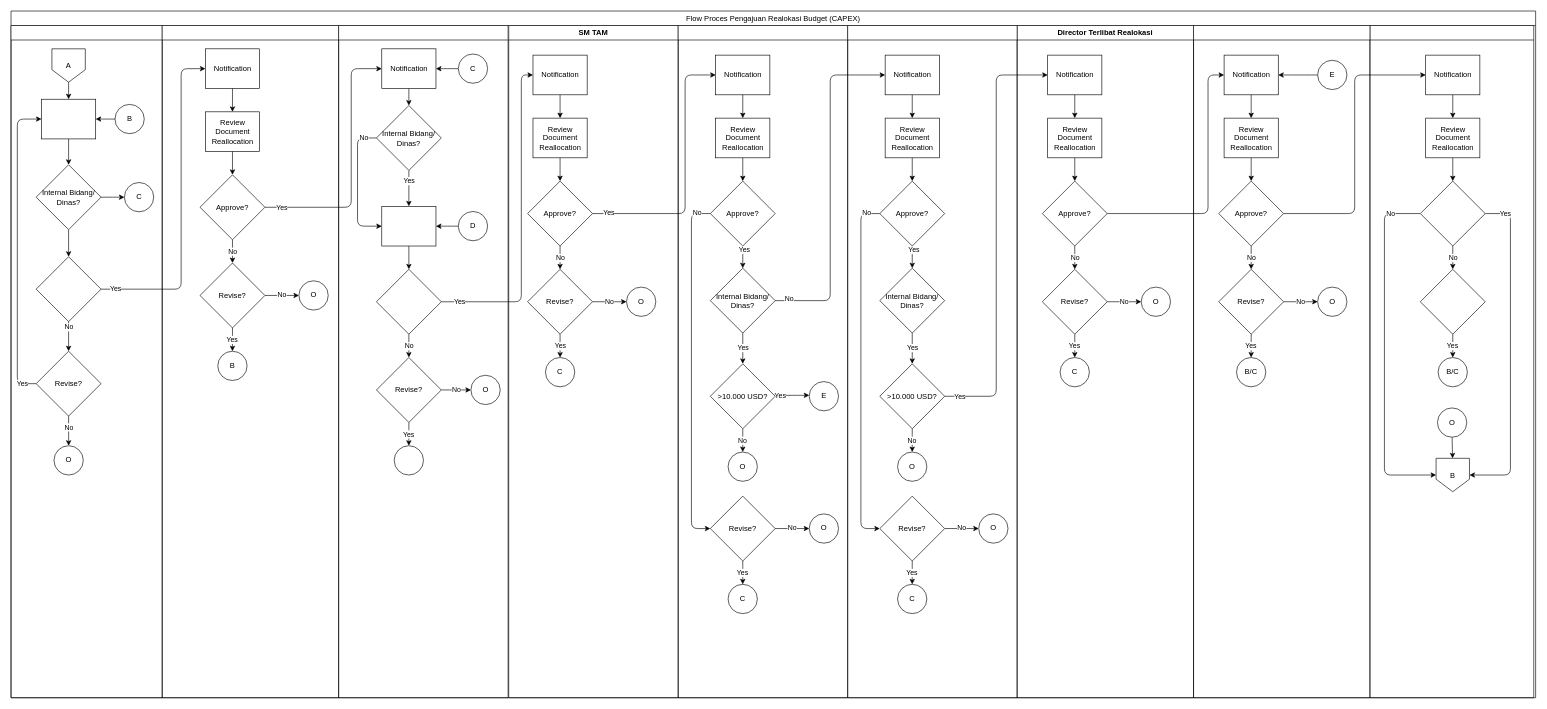
Some shapes in this 1547 by 709 pixel diagram are drawn without their labels. The shapes that lost their labels are listed below. From the top down, each one's box as (x1, y1, x2, y2) in pixels, then its label:
(41, 99, 96, 139): Fill/Edit Document Reallocation
(381, 206, 436, 246): Review/Fill/Edit Document Reallocation
(1420, 180, 1485, 246): Is Approved?
(36, 256, 101, 322): Submit?
(376, 269, 441, 334): Confirm/ Submit?
(1420, 269, 1485, 334): Is Revise?
(10, 25, 162, 698): Investment Partner/SM Bidang tiap Dinas
(162, 25, 339, 698): VP Investment Partner/SM Bidang
(338, 25, 508, 698): TAM
(678, 25, 848, 698): VP TA, TX, TD & TP
(847, 25, 1017, 698): VP Terlibat Realokasi
(1193, 25, 1370, 698): Director Finance
(1369, 25, 1534, 698): CEO
(394, 445, 423, 475): B/D
